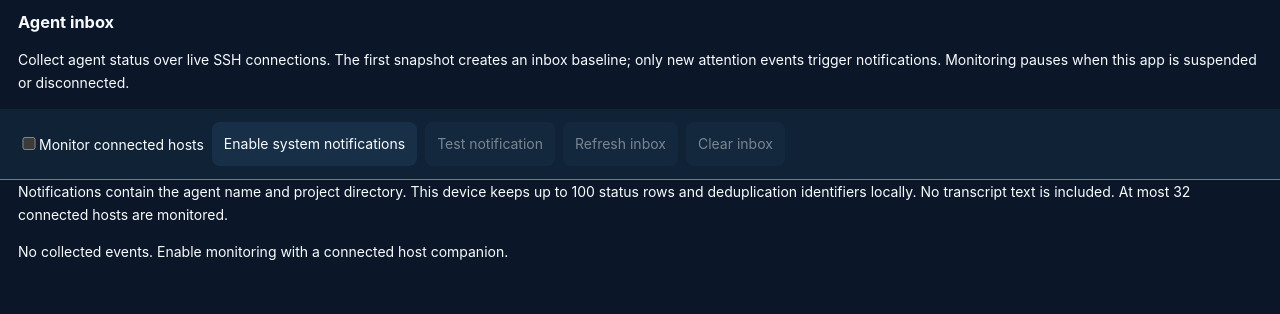
Test: does not poll or request permission until explicitly enabled
The width and height of the screenshot is (1280, 314).
Click the button "Enable system notifications" at x=315, y=144, box [212,122,417,166]
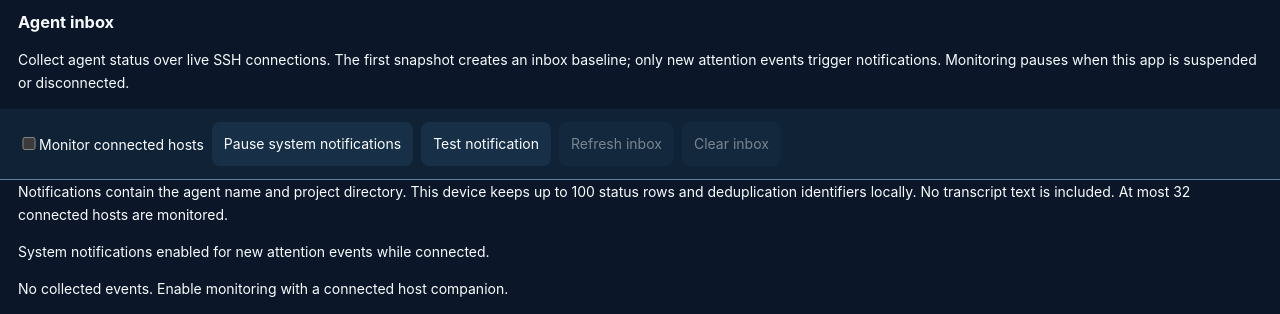
Check: the text "System notifications enabled for new attention events while connected." is shown, box [18,243,490,260]
